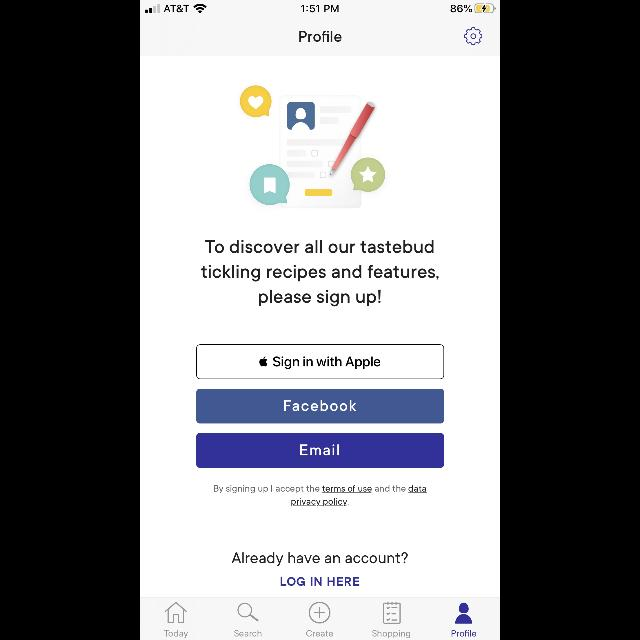icon: (309, 602, 331, 624), (165, 603, 187, 623), (384, 602, 401, 624), (238, 603, 258, 621), (456, 602, 472, 624), (464, 28, 482, 46)
image: (240, 85, 386, 208)
text: (202, 240, 438, 306), (215, 485, 428, 507), (232, 552, 408, 566), (280, 576, 360, 586), (299, 32, 341, 42), (372, 630, 410, 638), (164, 630, 188, 638), (234, 630, 262, 636), (306, 630, 334, 636), (452, 630, 476, 636)
textbutton: (196, 388, 444, 424), (196, 344, 444, 380), (196, 434, 444, 468)
uppertaskbar: (140, 0, 500, 14)
